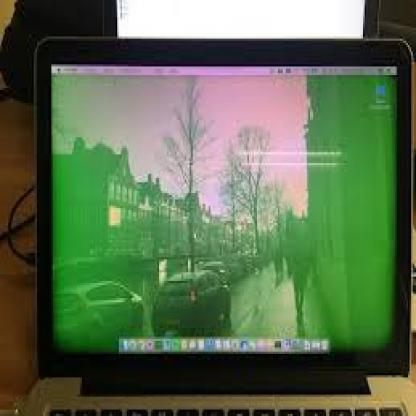fade: (48, 60, 400, 356)
